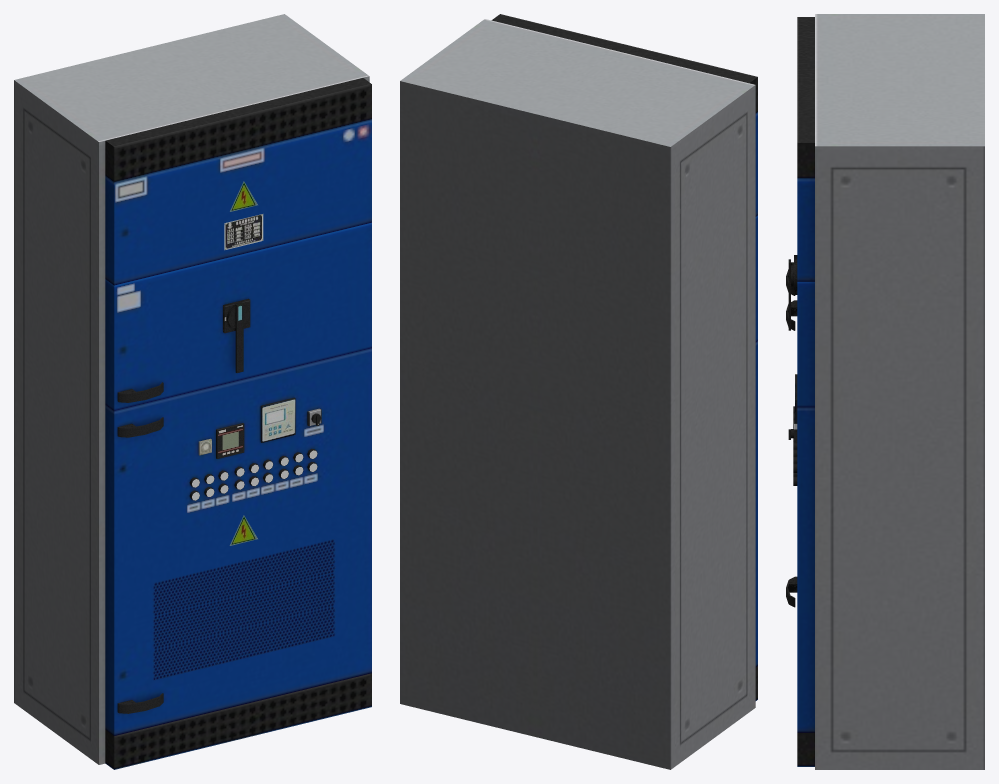
The model's file is SVC.glb.
The picture shows the model from 3 angles, left to right: view 1: azimuth 30°, elevation 25°; view 2: azimuth 150°, elevation 25°; view 3: azimuth 270°, elevation 25°; orthographic projection.
Visible parts, largest first — view 1: polySurface211; view 2: polySurface211; view 3: polySurface211.
Part boxes in pixels (<box>): polySurface211: <box>14,14,371,769</box>; polySurface211: <box>400,14,757,769</box>; polySurface211: <box>786,14,984,769</box>.
Size of the model in its own units: 10 by 22 by 6.36.
Materials: 1 (1 with a texture image).
